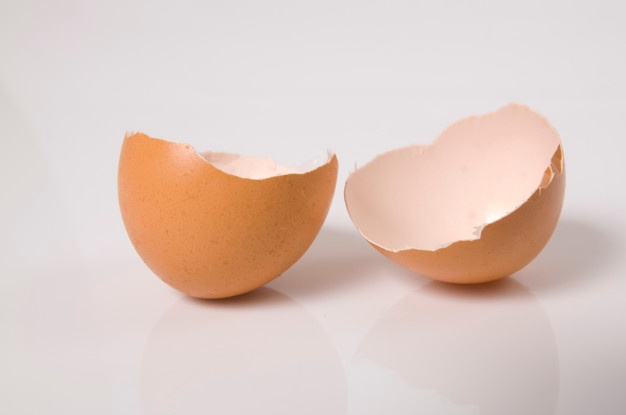egg: (110, 87, 570, 298)
